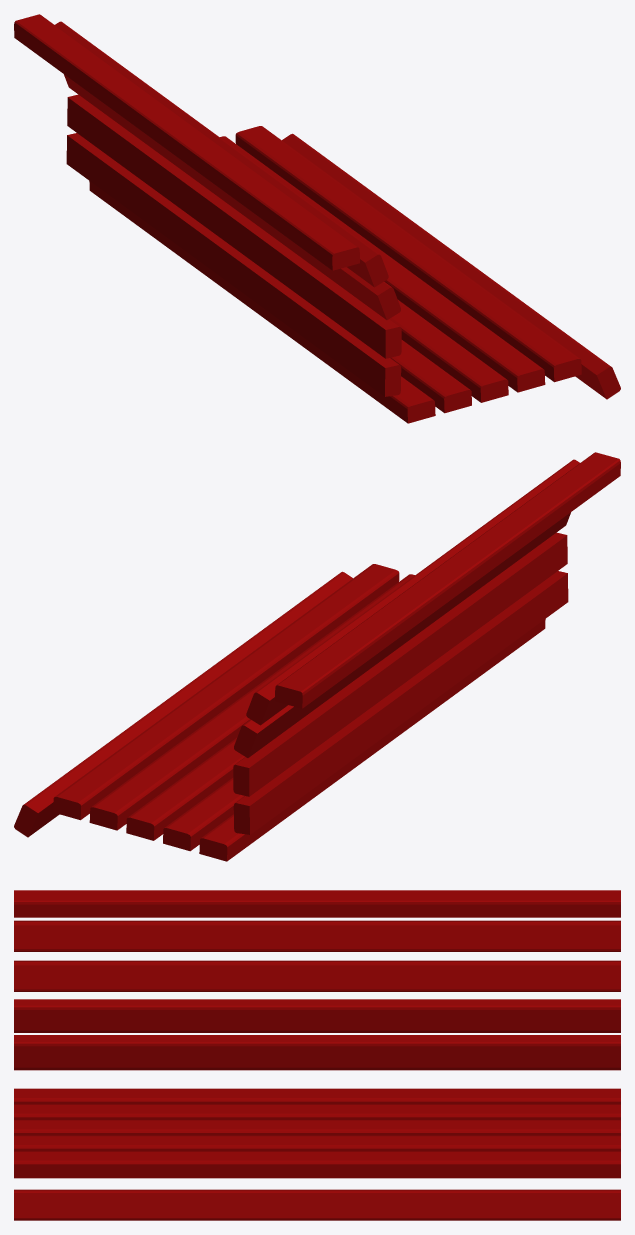
Rendered from bench_planks.obj.
The picture shows the model from 3 angles, top to bottom: view 1: azimuth 30°, elevation 25°; view 2: azimuth 150°, elevation 25°; view 3: azimuth 270°, elevation 25°; orthographic projection. The views are drawn at different scales.
Parts seen in each view (by area): view 1: Bench_Wood_Planks; view 2: Bench_Wood_Planks; view 3: Bench_Wood_Planks.
Part boxes in pixels (x1,y1,x2,y2): Bench_Wood_Planks: (14,14,620,423); Bench_Wood_Planks: (14,452,620,861); Bench_Wood_Planks: (14,890,620,1220).
Size of the model in its own units: 1.2 by 0.85 by 2.3.
